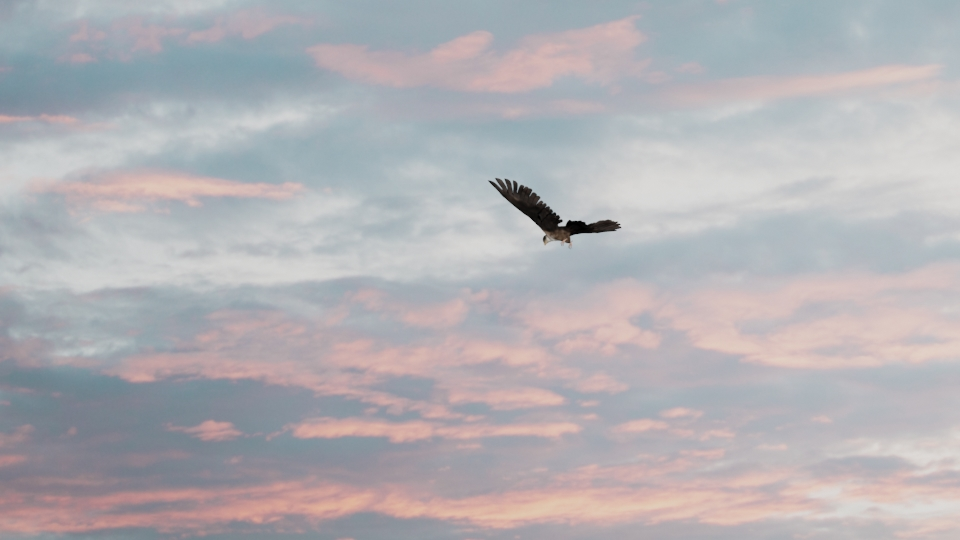bird: (483, 177, 620, 248)
